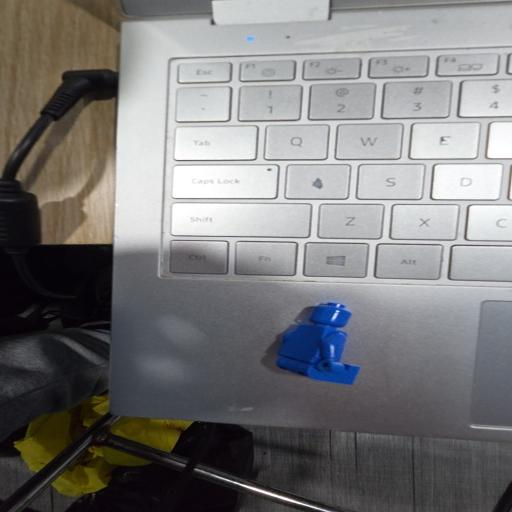Blue: (276, 303, 360, 385)
